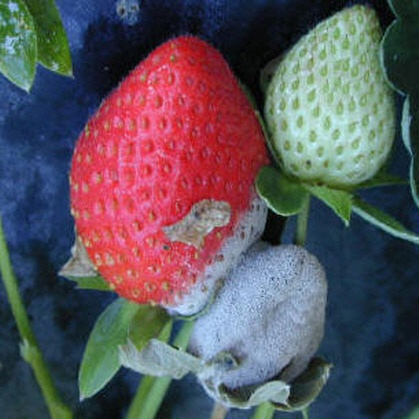Gray_Mold: (68, 105, 273, 383), (181, 6, 332, 320)
